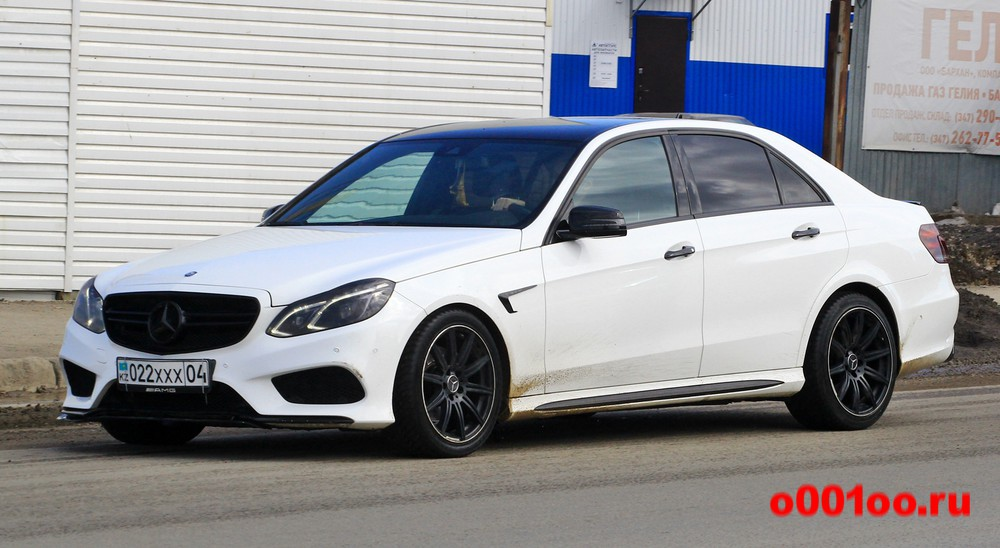license_plate: (115, 357, 217, 388)
